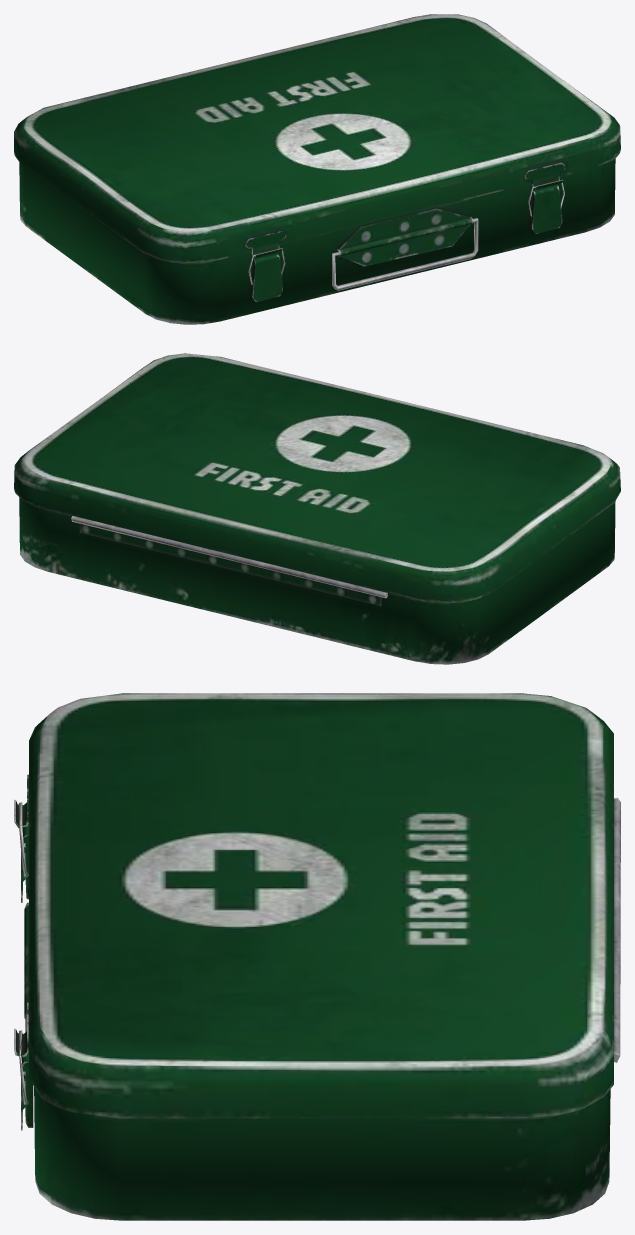
File: medical_box.glb
3 views of the same model, one above another, from view 1: azimuth 30°, elevation 25°; view 2: azimuth 150°, elevation 25°; view 3: azimuth 270°, elevation 25° (orthographic). The views are drawn at different scales.
Visible parts, largest first — view 1: medical_box_latch; view 2: medical_box_latch; view 3: medical_box_latch.
Boxes of the visible parts, <box> form: medical_box_latch: <box>14,14,620,324</box>; medical_box_latch: <box>14,353,620,664</box>; medical_box_latch: <box>14,693,620,1220</box>.
Size of the model in its own units: 0.5255 by 0.0967 by 0.3501.
1 material, 1 textured.
